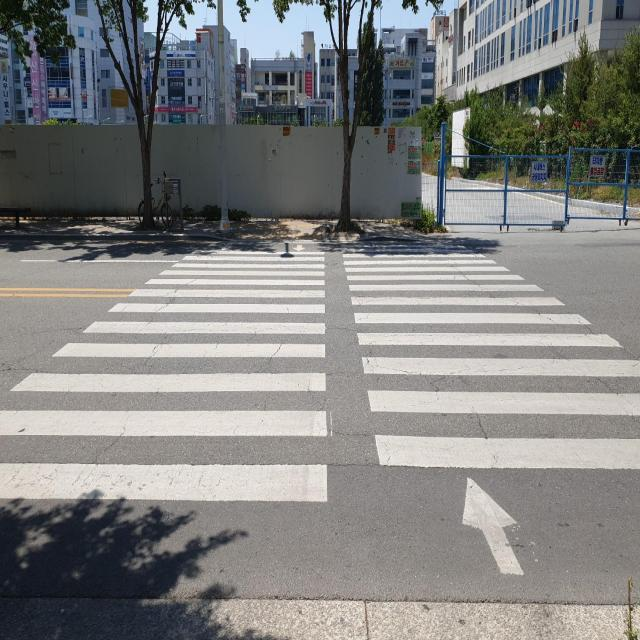횡단보도: (1, 239, 640, 578)
